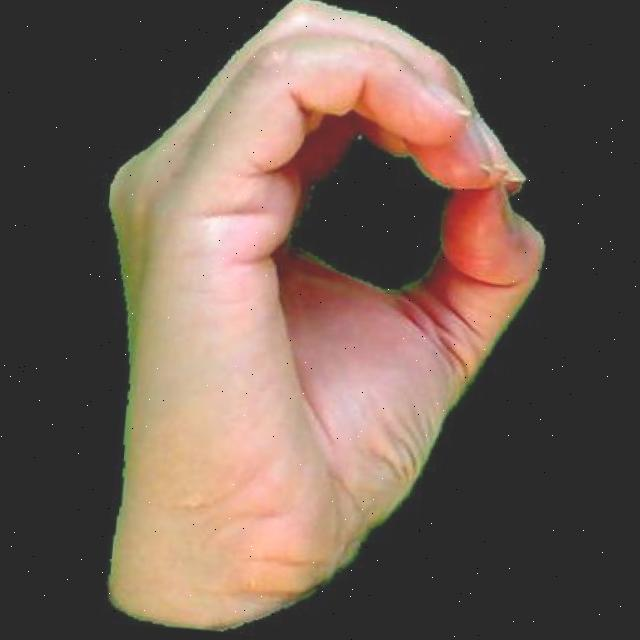o: (47, 0, 563, 640)
